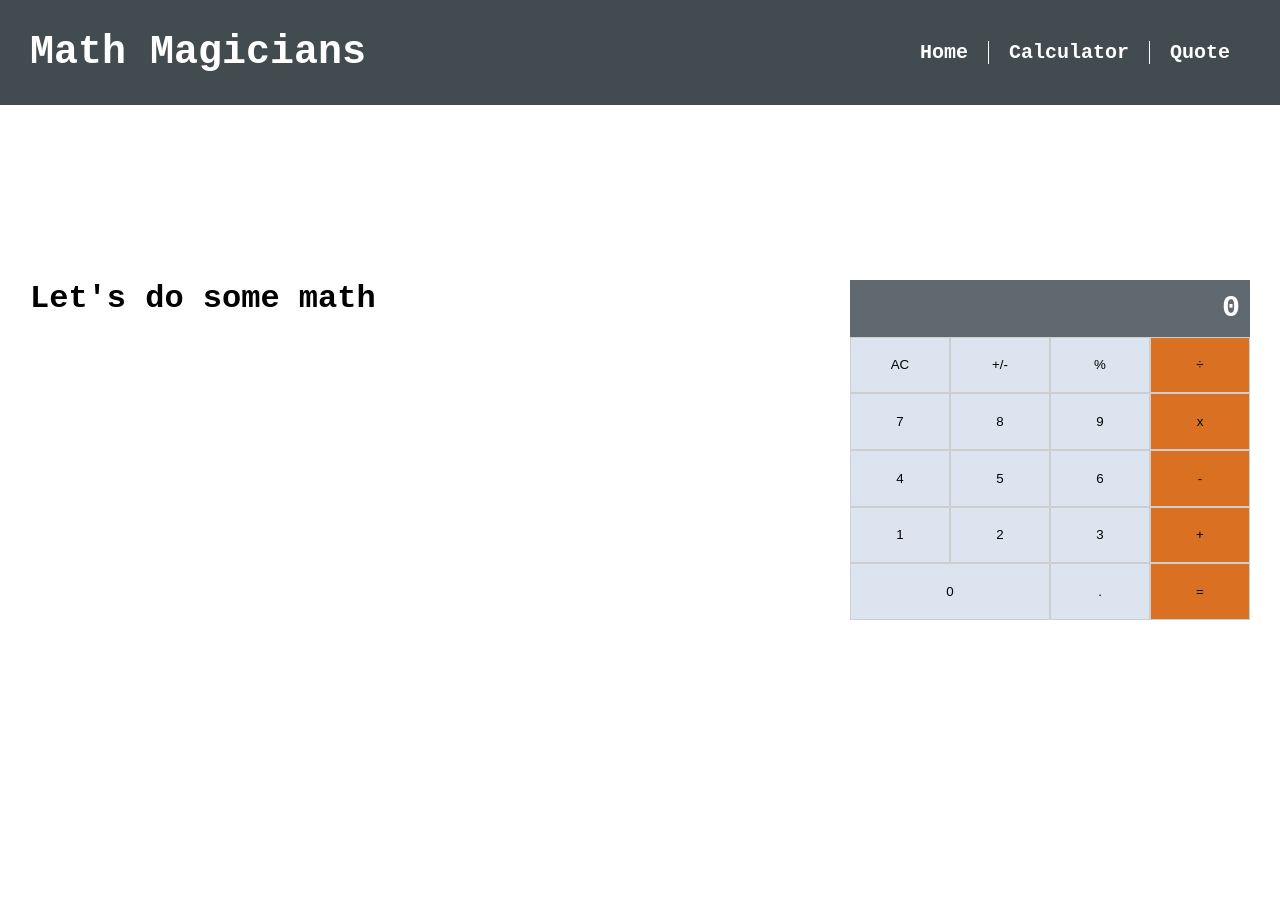
Test: Loads the Home page › the user clicks on the Quote link and it displays the quote page
Click the link "Quote". click: {"x": 1200, "y": 52}
box: [1170,41,1230,64]
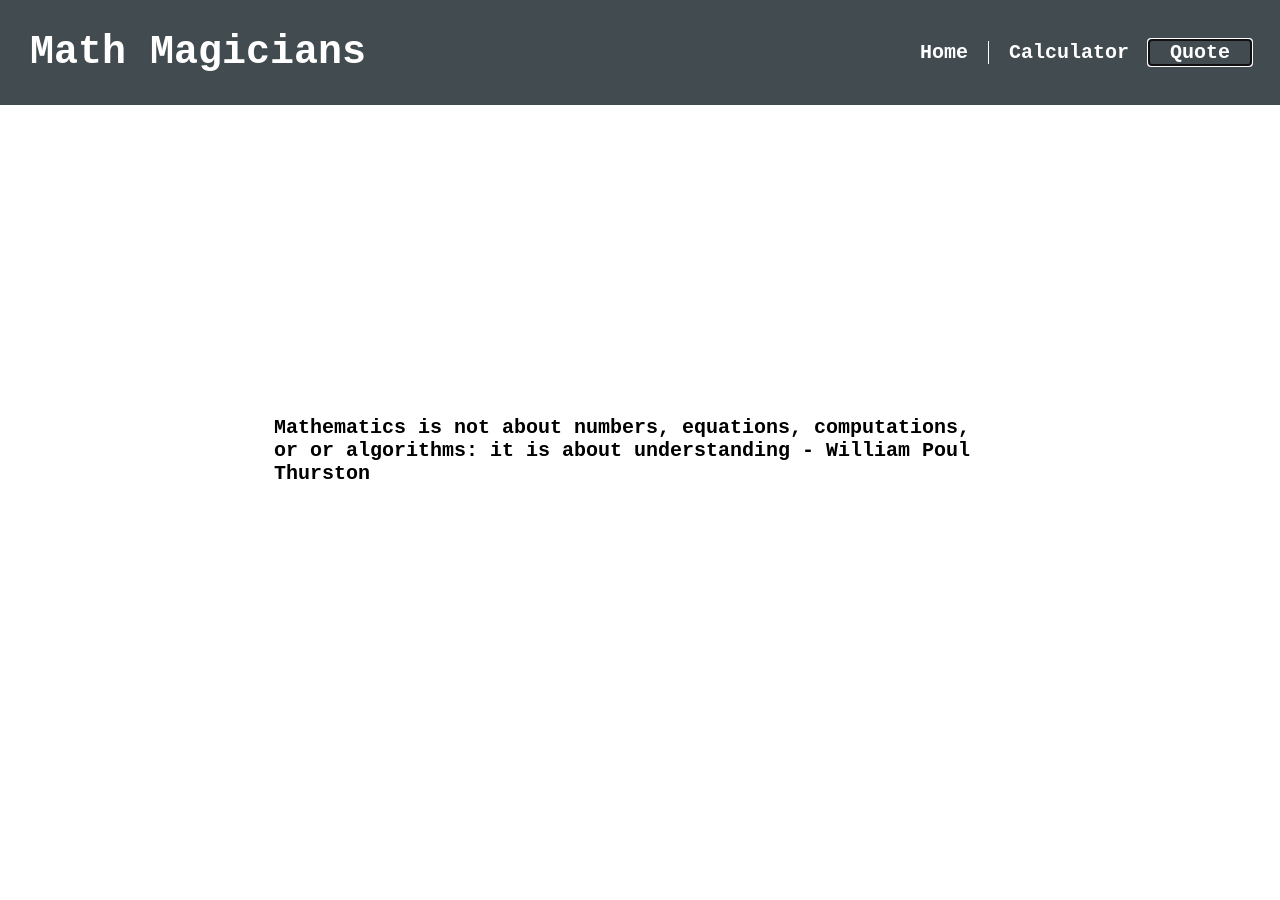
expect the text "- William Poul Thurston" is shown: met, box [274,416,970,484]
